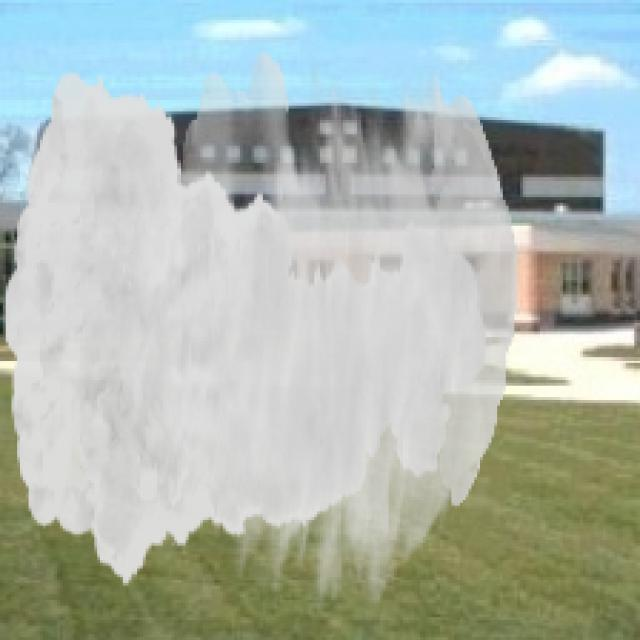Smoke: (2, 51, 518, 608)
